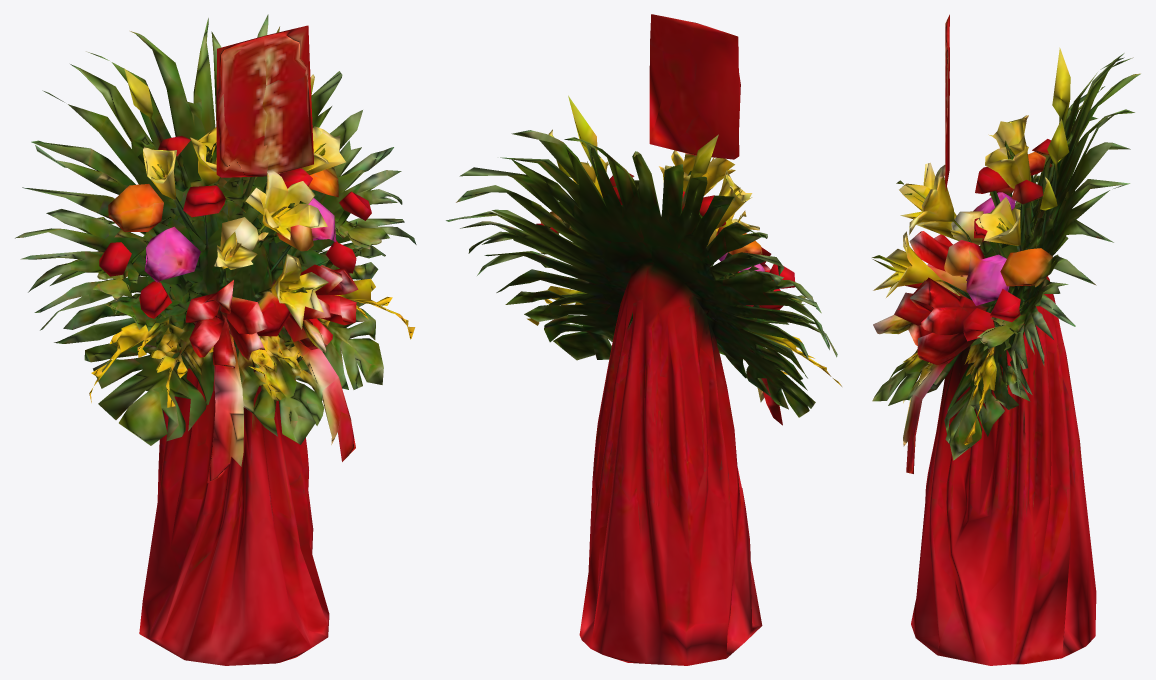
File: huashu-lite.glb
3 views of the same model, side by side, from view 1: azimuth 30°, elevation 25°; view 2: azimuth 150°, elevation 25°; view 3: azimuth 270°, elevation 25° (orthographic). The views are drawn at different scales.
Size of the model in its own units: 0.6566 by 0.9994 by 0.4124.
1 material, 1 textured.
